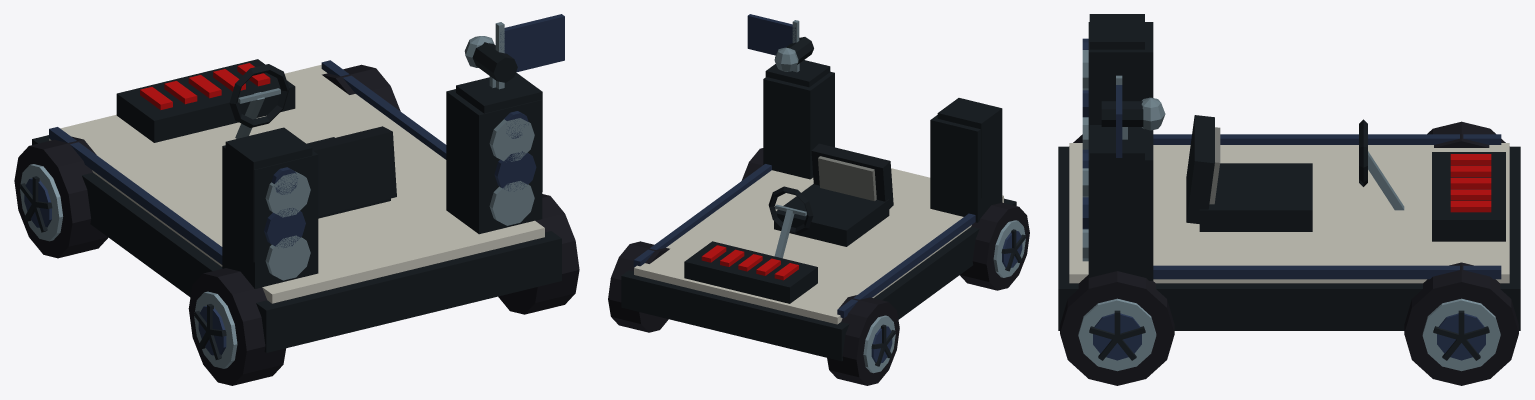
Rendered from kart.glb.
The picture shows the model from 3 angles, left to right: view 1: azimuth 30°, elevation 25°; view 2: azimuth 150°, elevation 25°; view 3: azimuth 270°, elevation 25°; orthographic projection. The views are drawn at different scales.
Visible parts, largest first — view 1: identity-stage-stage-platform-and-pa-towers, identity-stage-motif-speakers, identity-stage-driver-cockpit, wheel-front-left, wheel-rear-left, wheel-rear-right, identity-stage-motif-flag, identity-stage-motif-microphone, wheel-front-right; view 2: identity-stage-stage-platform-and-pa-towers, identity-stage-driver-cockpit, wheel-front-left, wheel-rear-left, identity-stage-motif-speakers, wheel-front-right, identity-stage-motif-flag, identity-stage-motif-microphone; view 3: identity-stage-stage-platform-and-pa-towers, identity-stage-driver-cockpit, wheel-front-right, wheel-rear-right, identity-stage-motif-speakers, identity-stage-motif-microphone, wheel-front-left, identity-stage-motif-flag.
Boxes of the visible parts, bbox=[...] form: identity-stage-stage-platform-and-pa-towers: bbox=[32, 59, 561, 352]; identity-stage-motif-speakers: bbox=[225, 72, 542, 262]; identity-stage-driver-cockpit: bbox=[229, 64, 396, 218]; wheel-front-left: bbox=[14, 136, 108, 258]; wheel-rear-left: bbox=[188, 268, 285, 385]; wheel-rear-right: bbox=[498, 194, 579, 314]; identity-stage-motif-flag: bbox=[495, 14, 564, 89]; identity-stage-motif-microphone: bbox=[464, 36, 517, 87]; wheel-front-right: bbox=[322, 64, 400, 111]; identity-stage-stage-platform-and-pa-towers: bbox=[621, 71, 1016, 361]; identity-stage-driver-cockpit: bbox=[768, 143, 893, 258]; wheel-front-left: bbox=[827, 295, 899, 385]; wheel-rear-left: bbox=[960, 202, 1029, 290]; identity-stage-motif-speakers: bbox=[765, 60, 1002, 198]; wheel-front-right: bbox=[608, 241, 669, 332]; identity-stage-motif-flag: bbox=[747, 14, 799, 55]; identity-stage-motif-microphone: bbox=[774, 37, 813, 72]; identity-stage-stage-platform-and-pa-towers: bbox=[1058, 22, 1520, 330]; identity-stage-driver-cockpit: bbox=[1186, 115, 1404, 231]; wheel-front-right: bbox=[1404, 262, 1518, 385]; wheel-rear-right: bbox=[1060, 271, 1174, 385]; identity-stage-motif-speakers: bbox=[1082, 14, 1144, 252]; identity-stage-motif-microphone: bbox=[1101, 97, 1165, 139]; wheel-front-left: bbox=[1427, 121, 1505, 147]; identity-stage-motif-flag: bbox=[1116, 75, 1122, 157].
Bounding box in the file's own units: 2.19 × 1.7 × 2.5.
